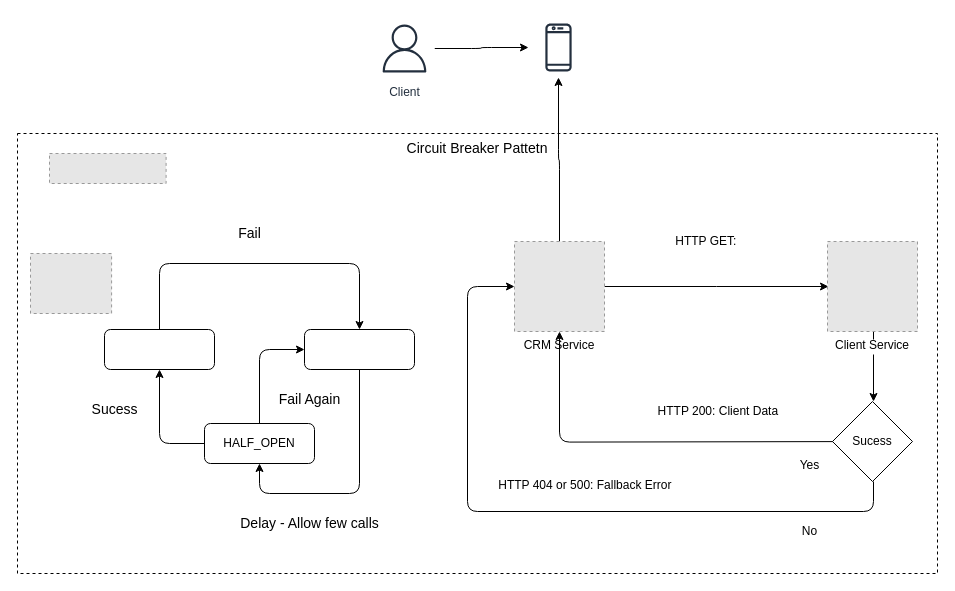
Some shapes in this 955 by 591 pixel diagram are drawn without their labels. Grey dashed boxes stand in for pictures. Each missing label, with the centre of its shape:
CLOSED: the point at 159,349
Mobile client: the point at 558,47
OPEN: the point at 359,349
